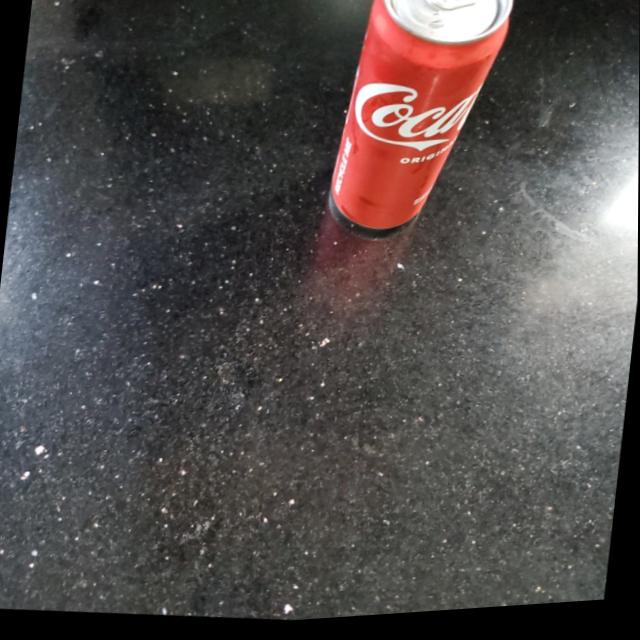coke: (328, 0, 520, 253)
